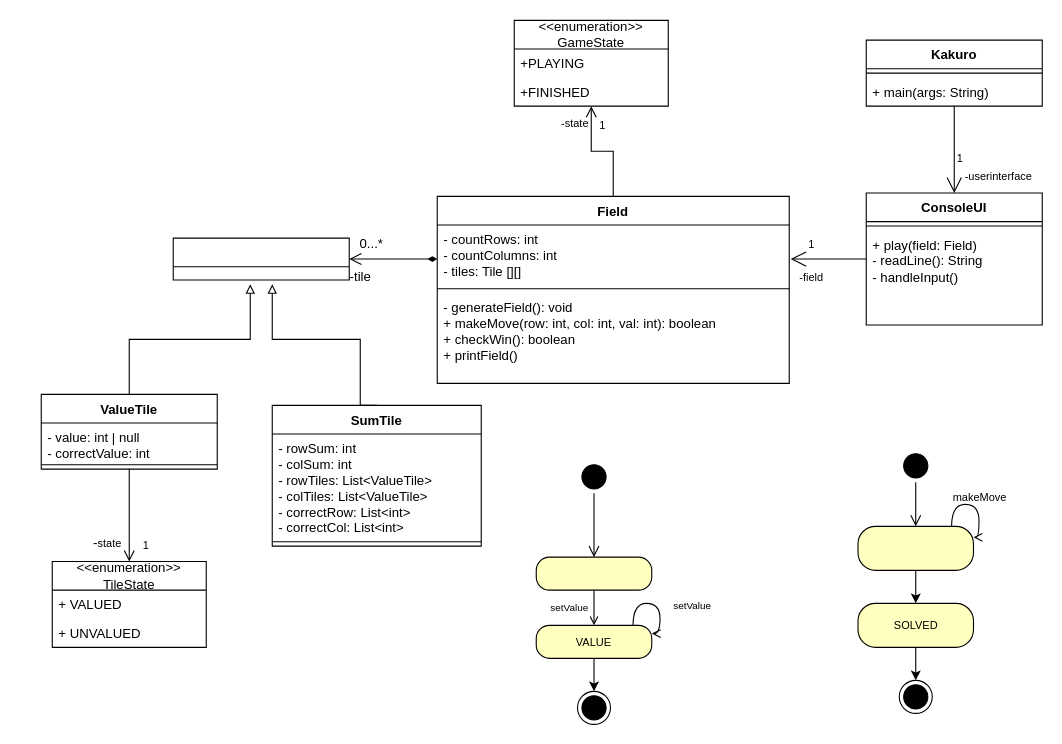
Some shapes in this 1062 by 744 pixel diagram are drawn without their labels. Here are the shapes that lost their labels. From the top down, the centre of each, then its label:
[260,258]: Tile
[915,547]: PLAYING
[593,573]: UNVALUED
